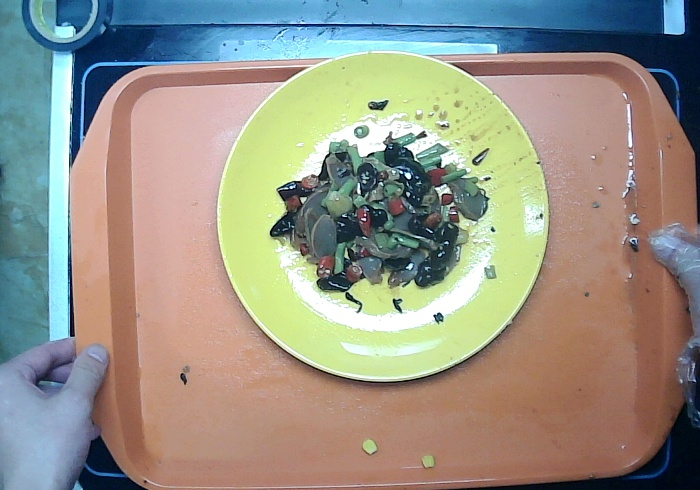HZYJPL-Huang_Se_Yuan_Pan: (210, 47, 551, 383)
